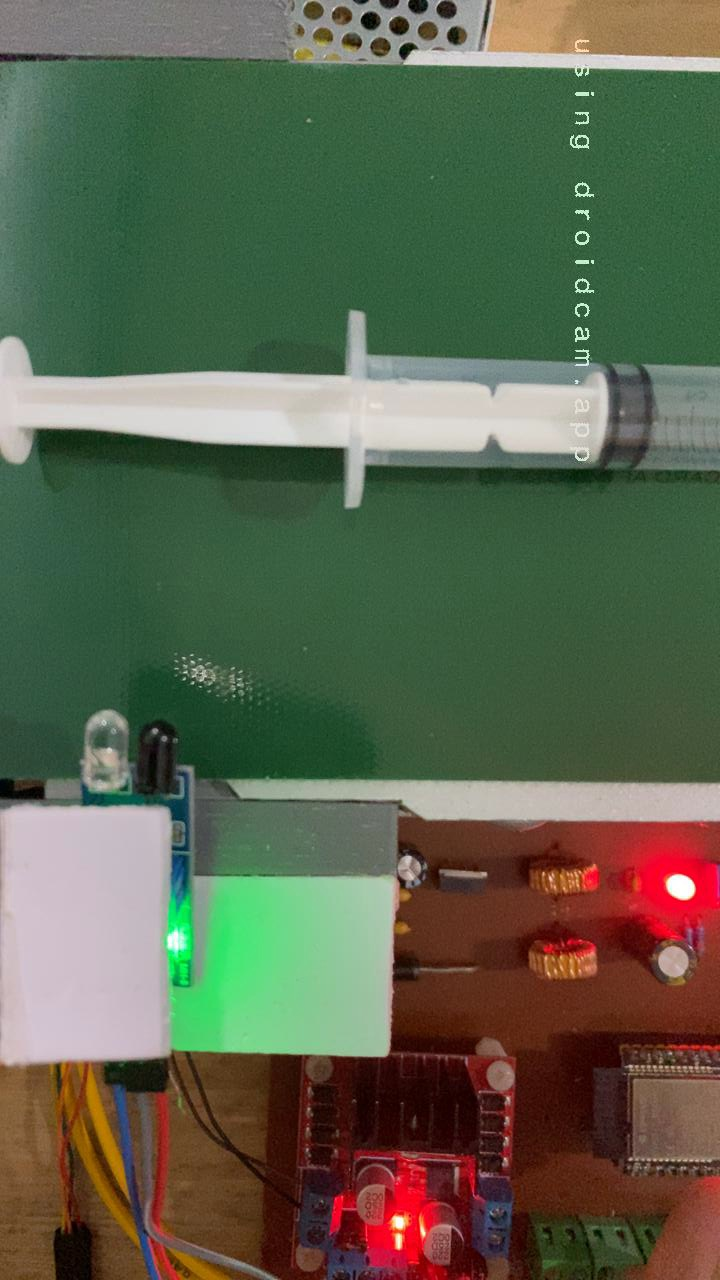syringe: (0, 305, 720, 517)
